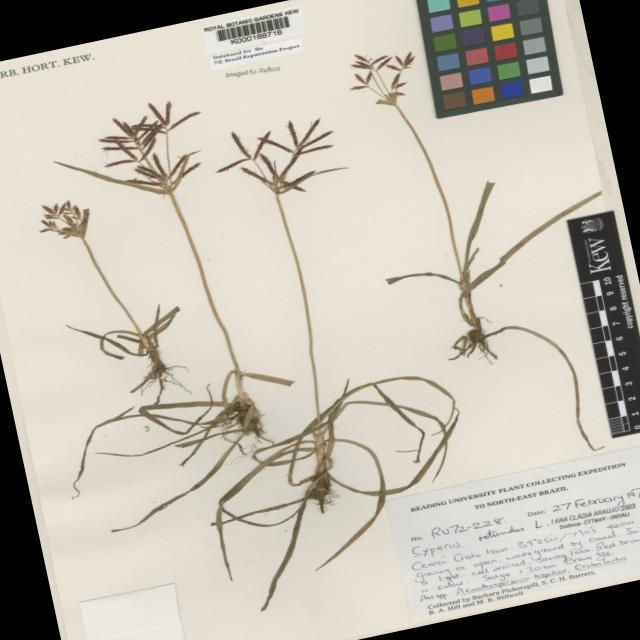cyperus: (66, 88, 224, 217), (210, 100, 360, 214), (324, 32, 429, 125), (24, 184, 114, 252)
